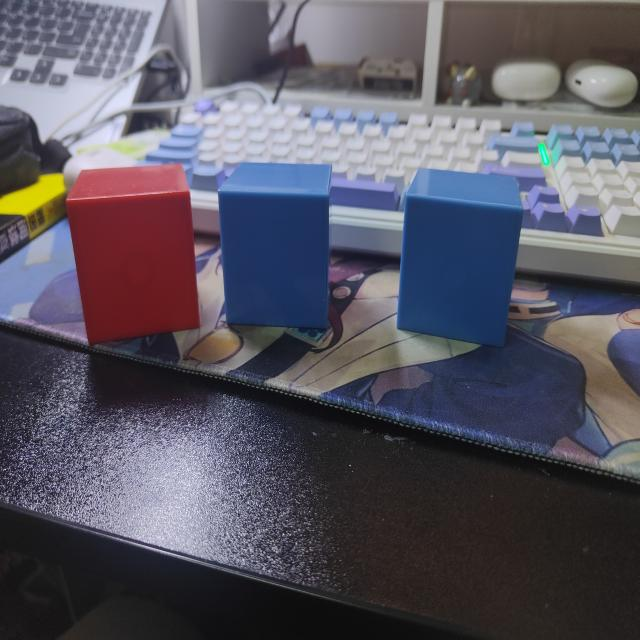blue: (396, 166, 524, 349), (218, 164, 332, 330)
red: (67, 162, 197, 342)
